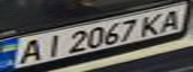0: (84, 24, 109, 49)
2: (63, 27, 90, 55)
6: (103, 19, 127, 47)
7: (118, 16, 145, 43)
A: (9, 36, 48, 65), (154, 7, 190, 34)
I: (36, 32, 66, 58)
K: (136, 10, 172, 37)
